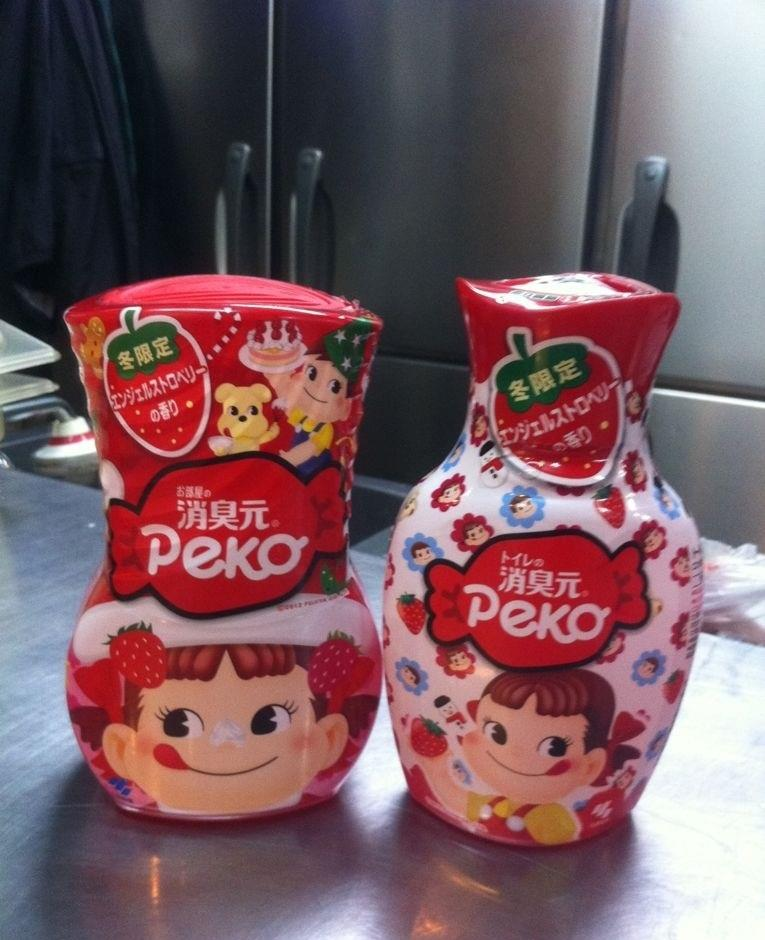FUJIYA: (69, 621, 339, 809)
